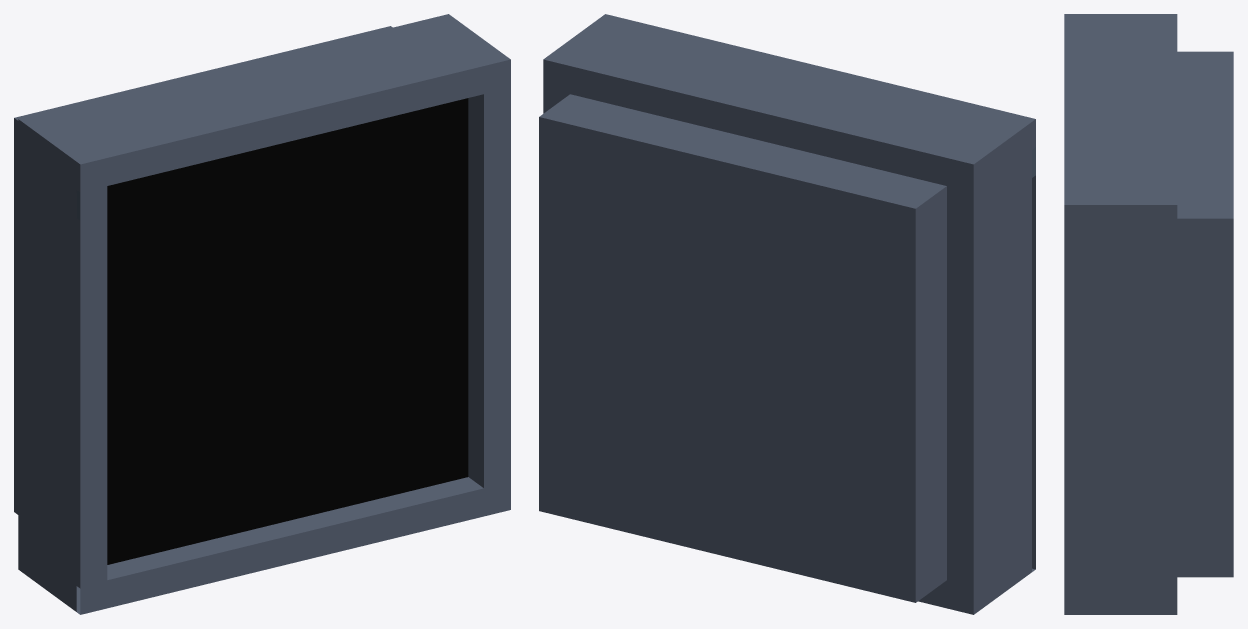
The model's file is portable_monitor.gltf.
3 renders of one model, left to right at view 1: azimuth 30°, elevation 25°; view 2: azimuth 150°, elevation 25°; view 3: azimuth 270°, elevation 25°, orthographic. The views are drawn at different scales.
Parts seen in each view (by area): view 1: screen, cube (×5); view 2: cube (×4); view 3: cube (×4).
Boxes of the visible parts, x1,y1,x2,y2 form: screen: (107,98,468,564); cube (×5): (14,14,510,614); cube (×4): (539,14,1035,614); cube (×4): (1064,14,1233,614).
Bounding box in the file's own units: 1 × 1 × 0.375.
Materials: 2 (2 with a texture image).
